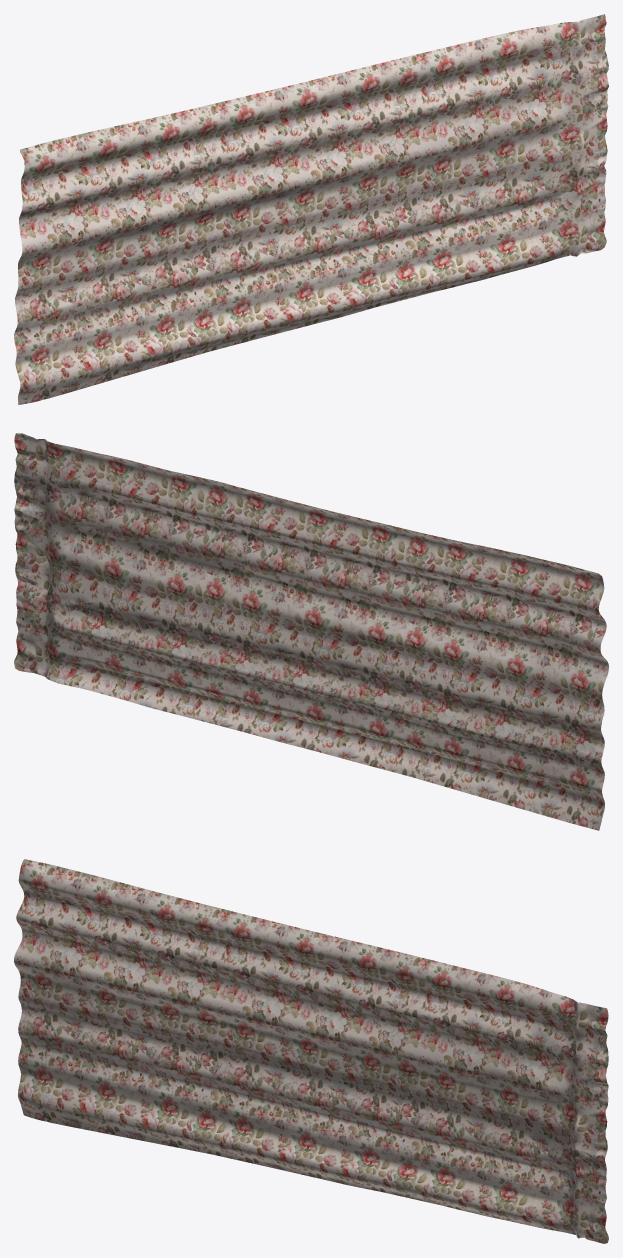
The model's file is SM_Kitchen_Curtain.fbx.
The picture shows the model from 3 angles, top to bottom: view 1: azimuth 30°, elevation 25°; view 2: azimuth 150°, elevation 25°; view 3: azimuth 330°, elevation 25°; orthographic projection.
Visible parts, largest first — view 1: SM_Kitchen_Curtain_LOD0; view 2: SM_Kitchen_Curtain_LOD0; view 3: SM_Kitchen_Curtain_LOD0.
Part boxes in pixels (left/top/right/bottom): SM_Kitchen_Curtain_LOD0: left=14, top=14, right=608, bottom=404; SM_Kitchen_Curtain_LOD0: left=14, top=433, right=608, bottom=830; SM_Kitchen_Curtain_LOD0: left=14, top=859, right=608, bottom=1243.
Size of the model in its own units: 207 by 5.84 by 86.21.
Materials: 1 (1 with a texture image).
